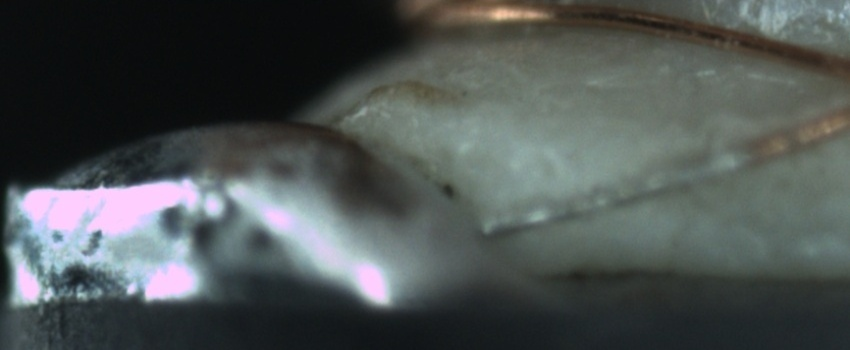TS: (480, 146, 749, 237)
